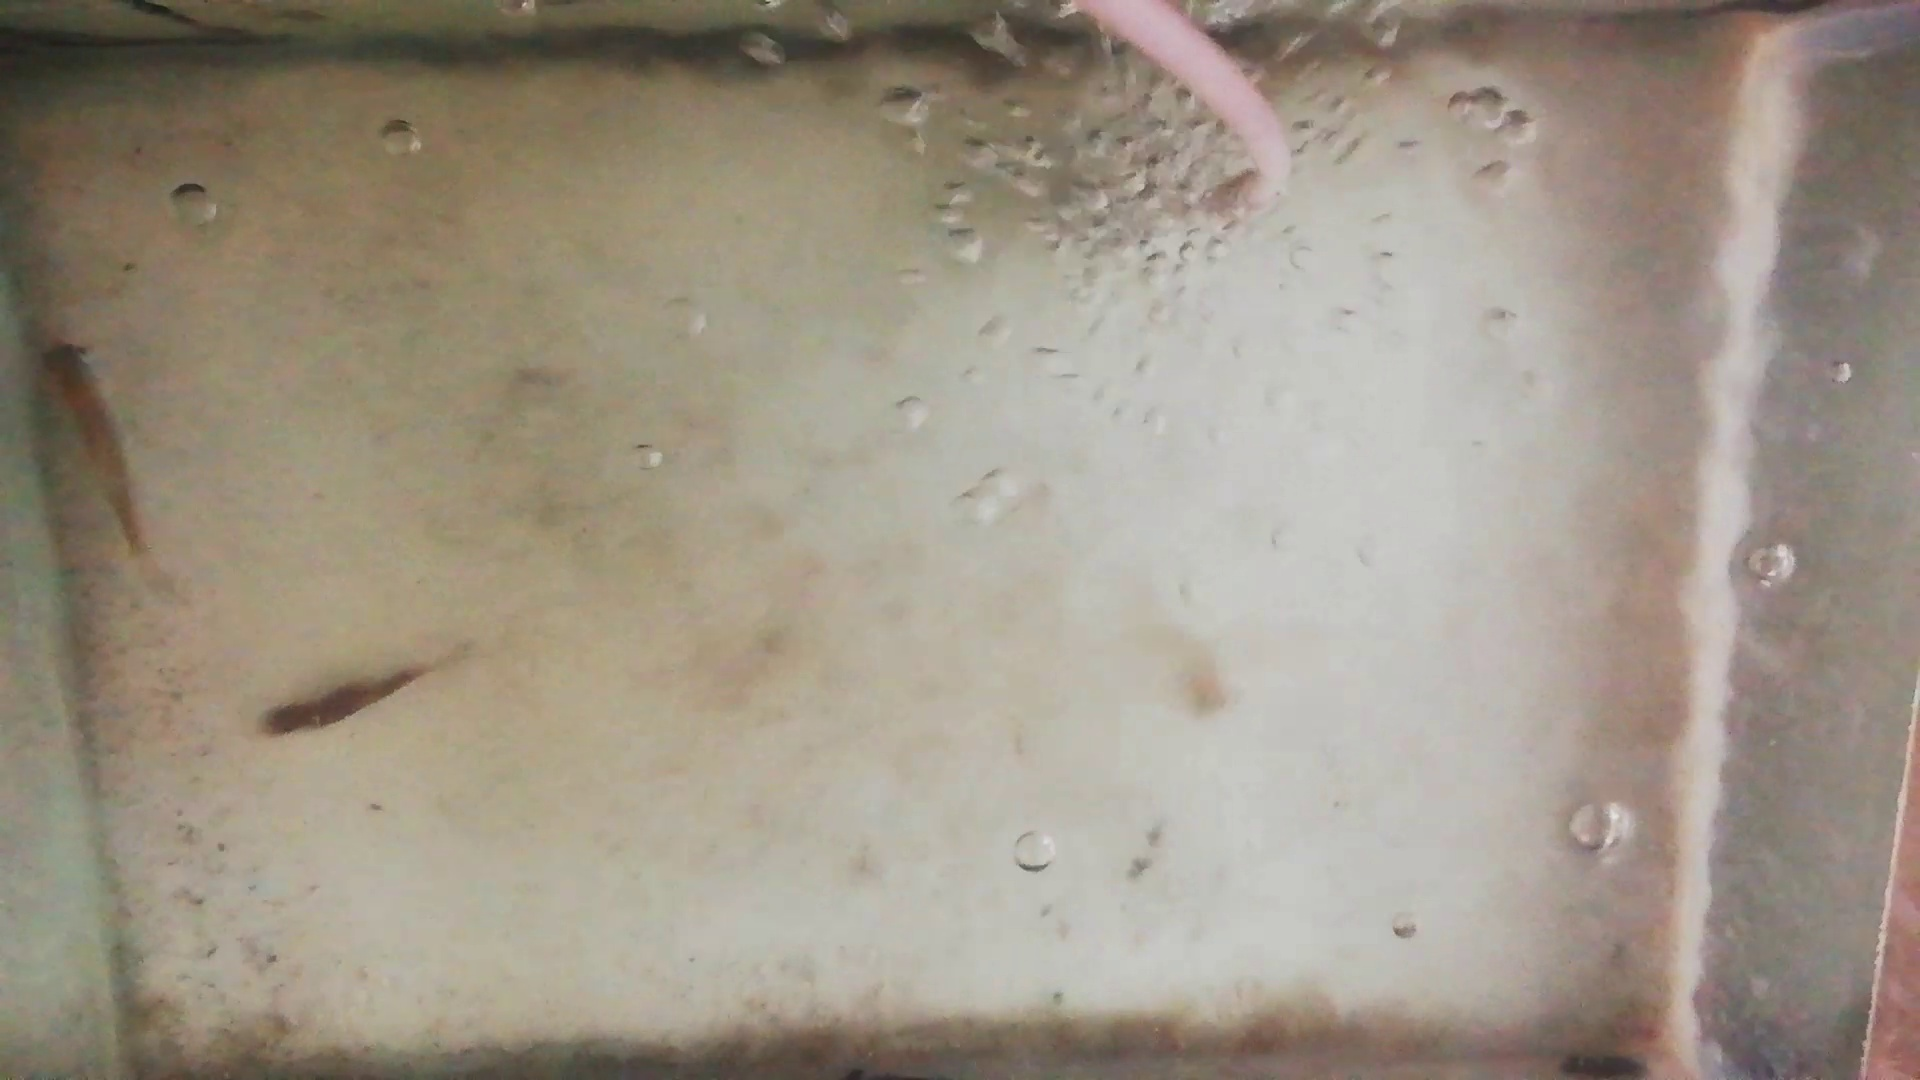fish: (45, 342, 142, 551), (262, 669, 429, 736)
